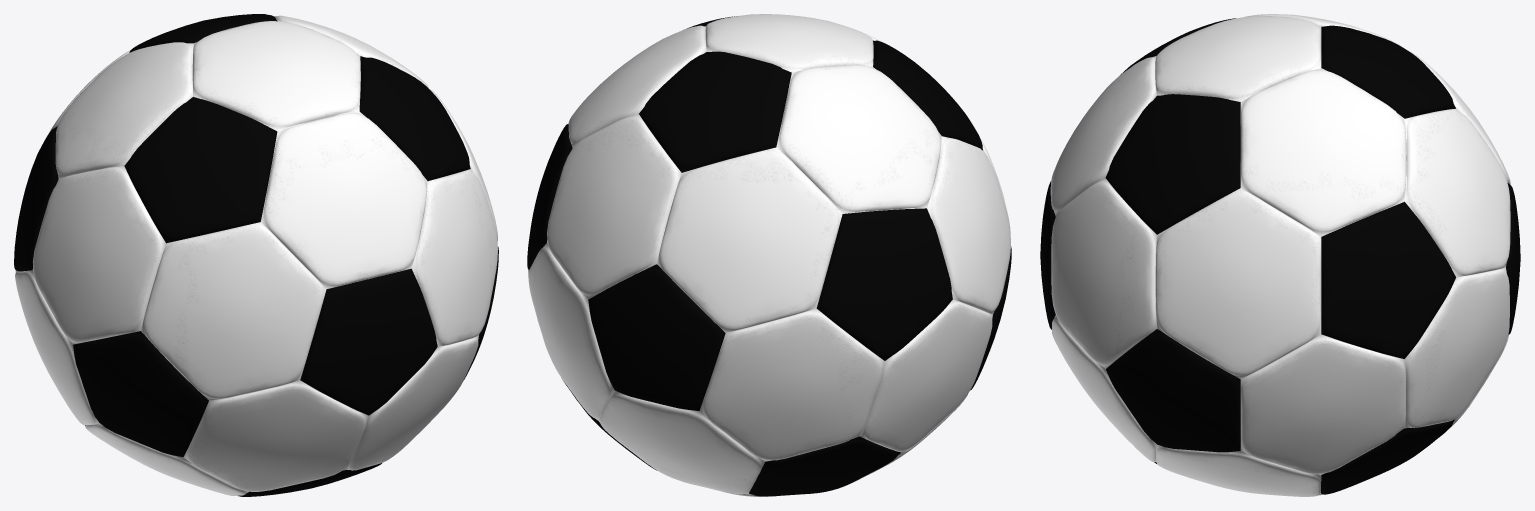
The model's file is football-soccer-ball.obj.
3 renders of one model, left to right at view 1: azimuth 30°, elevation 25°; view 2: azimuth 150°, elevation 25°; view 3: azimuth 270°, elevation 25°, orthographic.
Parts seen in each view (by area): view 1: Football; view 2: Football; view 3: Football.
Boxes of the visible parts, x1=… form: Football: x1=14, y1=14, x2=498, y2=496; Football: x1=527, y1=14, x2=1011, y2=496; Football: x1=1040, y1=14, x2=1520, y2=496.
Size of the model in its own units: 129 by 128 by 128.
1 material, 1 textured.
